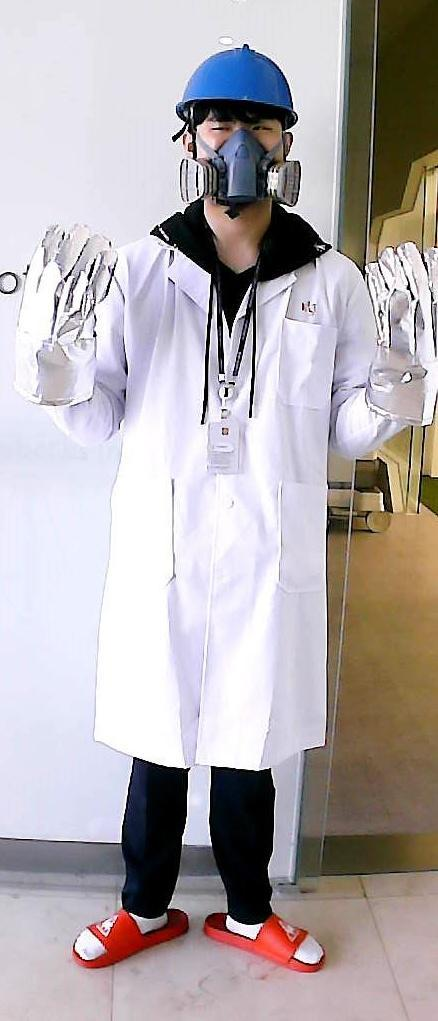lab_coat: (112, 266, 360, 765)
